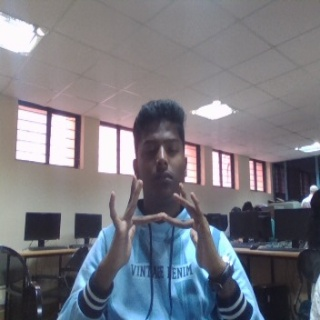Internet: (105, 175, 218, 273)
